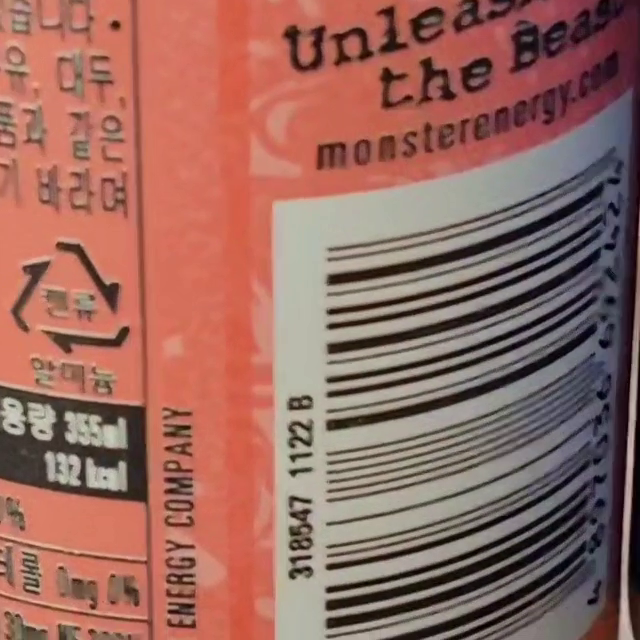Can: (12, 242, 133, 356)
